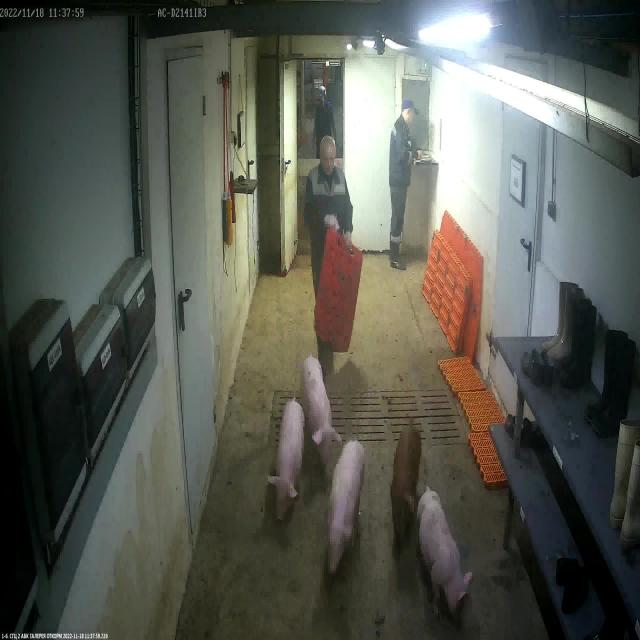pig: (417, 489, 473, 626), (325, 440, 366, 580), (268, 398, 306, 524), (304, 358, 340, 465), (392, 432, 422, 520)
